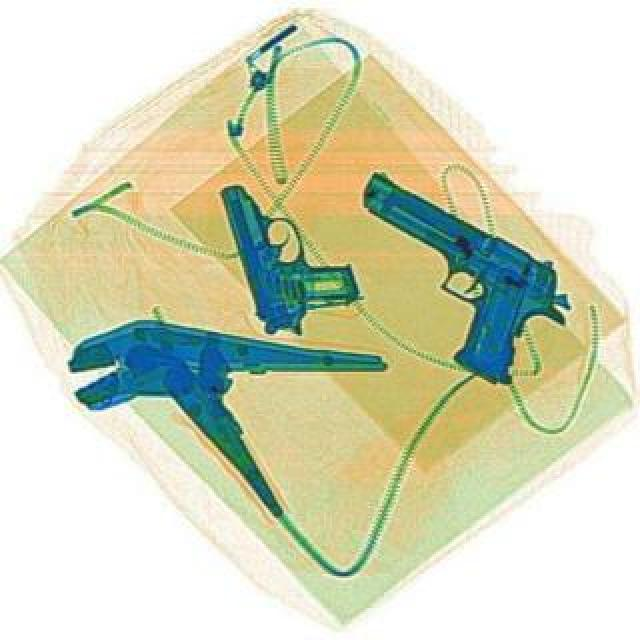gun: (300, 174, 588, 400), (214, 166, 366, 346)
